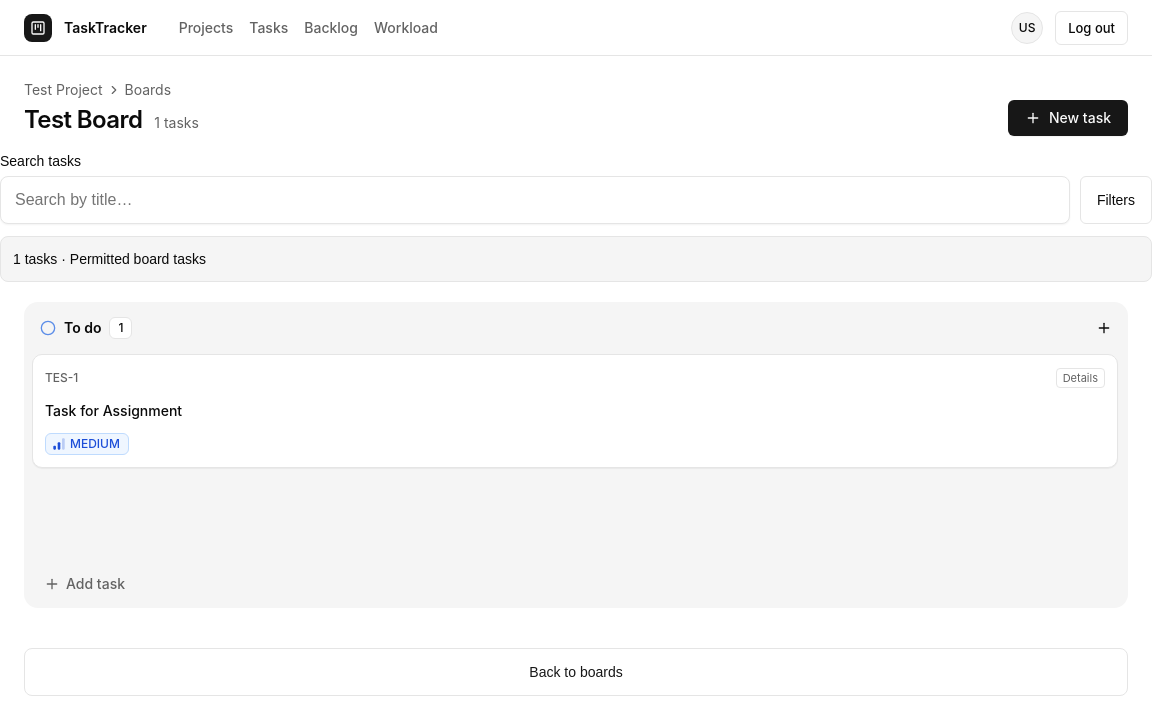
US-12 Assign or unassign task members acceptance tests › restricts Readers from assigning tasks by showing disclaimer and hiding change buttons
Click the button with test id "task-card-t-1" at (62, 378), box [32,354,1118,468]
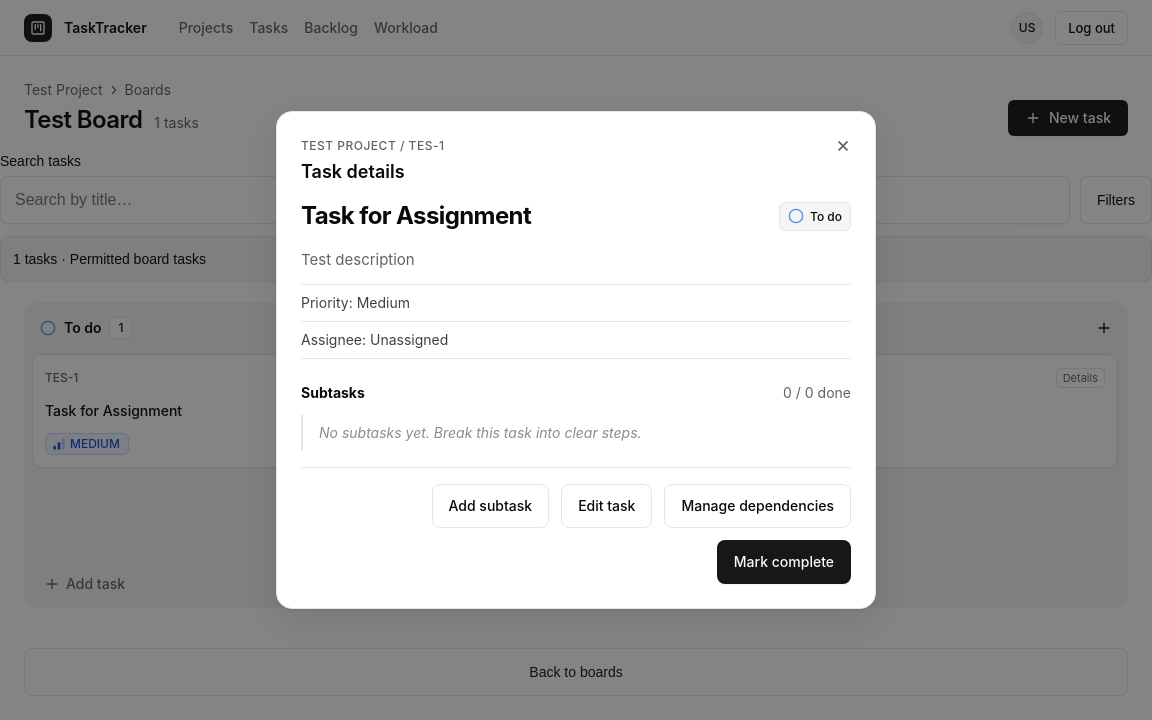
Result: the dialog with test id "parent-task-details-modal" is shown
